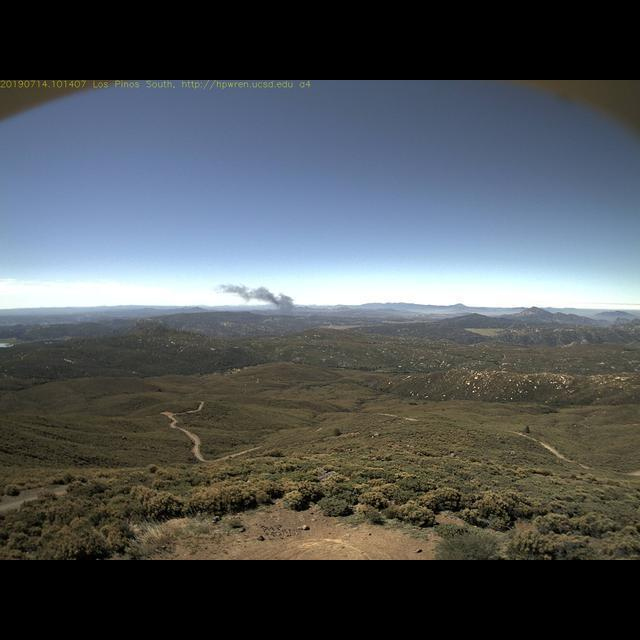Smoke: (211, 276, 297, 318)
